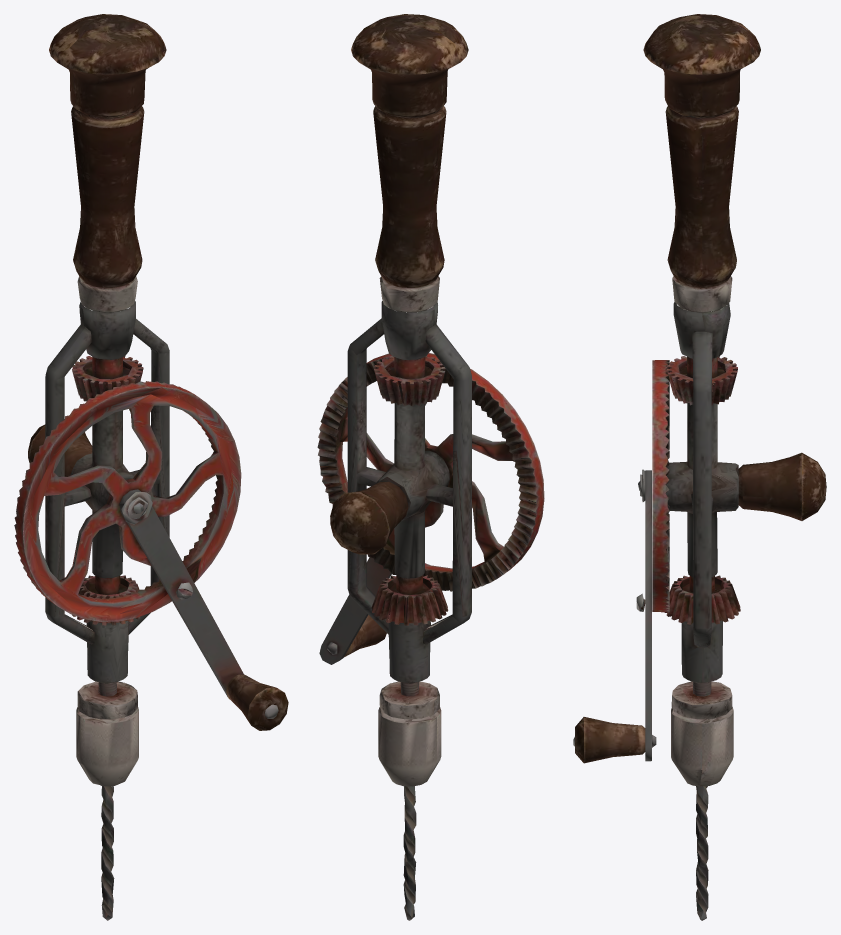
Rendered from vintage-hand-drill.glb.
The picture shows the model from 3 angles, left to right: view 1: azimuth 30°, elevation 25°; view 2: azimuth 150°, elevation 25°; view 3: azimuth 270°, elevation 25°; orthographic projection.
Parts seen in each view (by area): view 1: vintage_hand_drill; view 2: vintage_hand_drill; view 3: vintage_hand_drill.
Part boxes in pixels (bbox=[...]): vintage_hand_drill: bbox=[14, 14, 288, 920]; vintage_hand_drill: bbox=[317, 14, 544, 920]; vintage_hand_drill: bbox=[573, 14, 826, 920].
Bounding box in the file's own units: 0.1312 × 0.4857 × 0.1243.
Materials: 1 (1 with a texture image).
